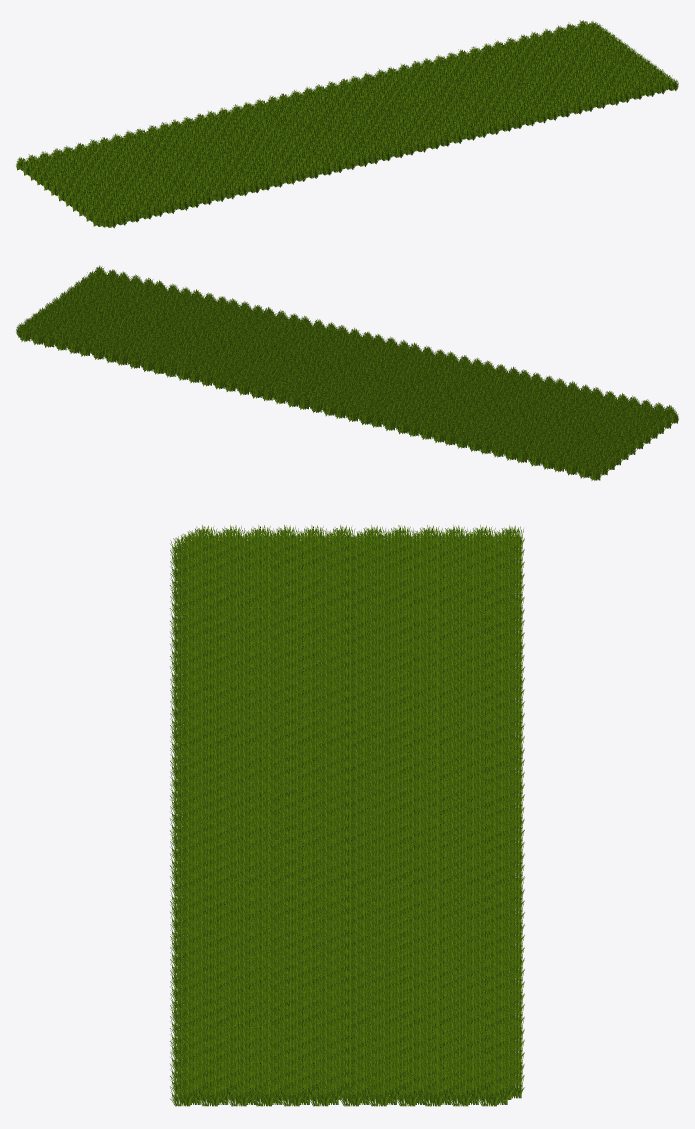
Rendered from trava.obj.
3 views of the same model, one above another, from view 1: azimuth 30°, elevation 25°; view 2: azimuth 150°, elevation 25°; view 3: azimuth 270°, elevation 25° (orthographic). The views are drawn at different scales.
Visible parts, largest first — view 1: 78f67a44e13965ae3008bbb284401925.000_78f67a44e13965ae3008bbb284, 78f67a44e13965ae3008bbb284401925.000_78f67a44e13965ae3008bb.003, 78f67a44e13965ae3008bbb284401925.000_78f67a44e13965ae3008bb.002, 78f67a44e13965ae3008bbb284401925.000_78f67a44e13965ae3008bb; view 2: 78f67a44e13965ae3008bbb284401925.000_78f67a44e13965ae3008bbb284, 78f67a44e13965ae3008bbb284401925.000_78f67a44e13965ae3008bb.003, 78f67a44e13965ae3008bbb284401925.000_78f67a44e13965ae3008bb.002, 78f67a44e13965ae3008bbb284401925.000_78f67a44e13965ae3008bb; view 3: 78f67a44e13965ae3008bbb284401925.000_78f67a44e13965ae3008bb.003, 78f67a44e13965ae3008bbb284401925.000_78f67a44e13965ae3008bb, 78f67a44e13965ae3008bbb284401925.000_78f67a44e13965ae3008bbb284, 78f67a44e13965ae3008bbb284401925.000_78f67a44e13965ae3008bb.002.
Boxes of the visible parts, x1,y1,x2,y2 form: 78f67a44e13965ae3008bbb284401925.000_78f67a44e13965ae3008bbb284: [16, 125, 248, 228]; 78f67a44e13965ae3008bbb284401925.000_78f67a44e13965ae3008bb.003: [447, 20, 678, 123]; 78f67a44e13965ae3008bbb284401925.000_78f67a44e13965ae3008bb.002: [303, 55, 535, 157]; 78f67a44e13965ae3008bbb284401925.000_78f67a44e13965ae3008bb: [159, 90, 391, 192]; 78f67a44e13965ae3008bbb284401925.000_78f67a44e13965ae3008bbb284: [454, 372, 678, 480]; 78f67a44e13965ae3008bbb284401925.000_78f67a44e13965ae3008bb.003: [16, 265, 242, 374]; 78f67a44e13965ae3008bbb284401925.000_78f67a44e13965ae3008bb.002: [162, 301, 387, 409]; 78f67a44e13965ae3008bbb284401925.000_78f67a44e13965ae3008bb: [307, 336, 533, 445]; 78f67a44e13965ae3008bbb284401925.000_78f67a44e13965ae3008bb.003: [170, 945, 524, 1106]; 78f67a44e13965ae3008bbb284401925.000_78f67a44e13965ae3008bb: [170, 664, 524, 825]; 78f67a44e13965ae3008bbb284401925.000_78f67a44e13965ae3008bbb284: [170, 525, 524, 685]; 78f67a44e13965ae3008bbb284401925.000_78f67a44e13965ae3008bb.002: [170, 805, 524, 966].
Size of the model in its own units: 61.87 by 1.58 by 16.56.
6 materials, 6 textured.
